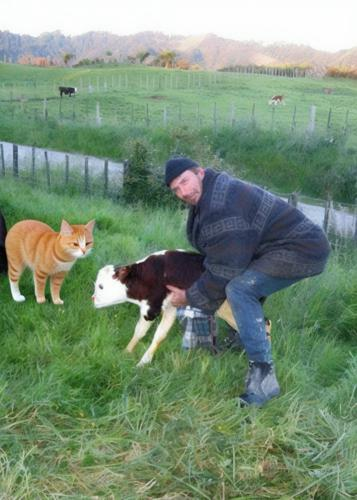cat: (2, 213, 94, 305)
cow: (91, 249, 273, 369), (270, 94, 289, 108), (59, 87, 80, 99)
person: (168, 159, 331, 409)
person/foot: (239, 381, 280, 406), (218, 332, 242, 351)
person/hand: (165, 284, 187, 309)
person/head: (166, 159, 205, 204)
